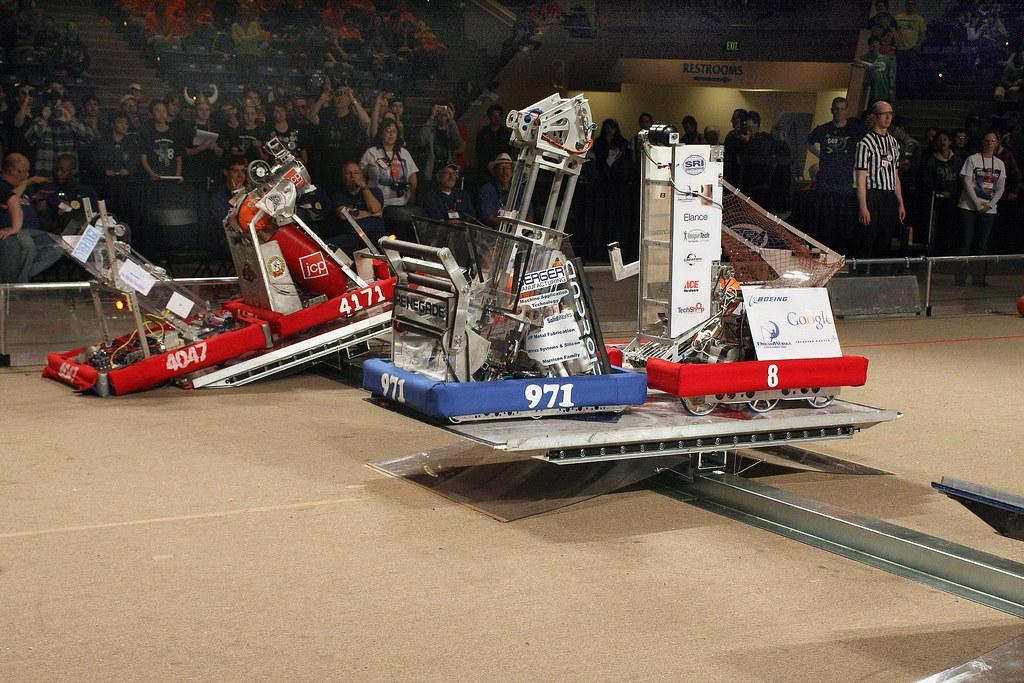robot: (363, 90, 653, 426), (587, 121, 877, 422), (47, 189, 275, 404), (217, 122, 428, 351)
